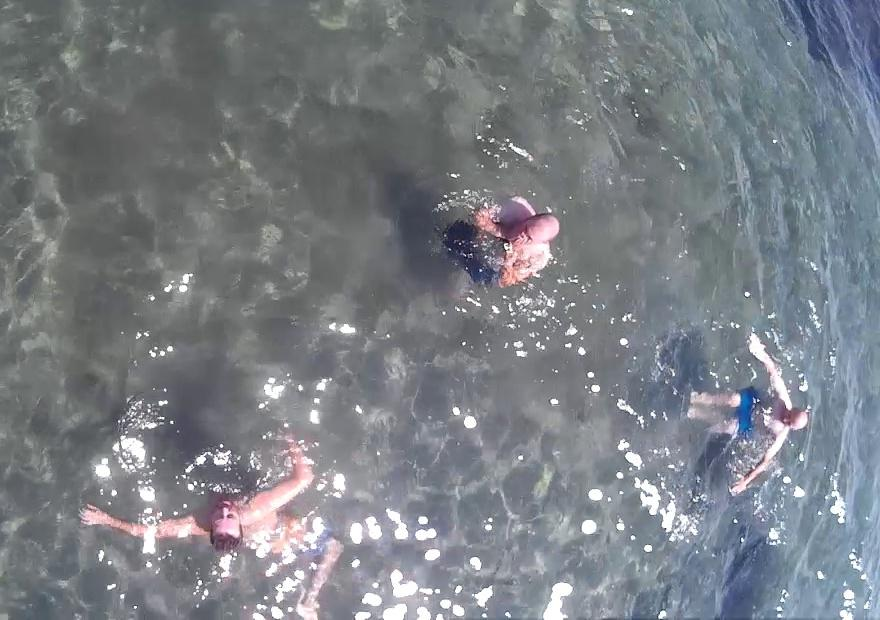swimmer: (92, 438, 336, 574), (672, 320, 808, 498), (441, 172, 565, 292)
